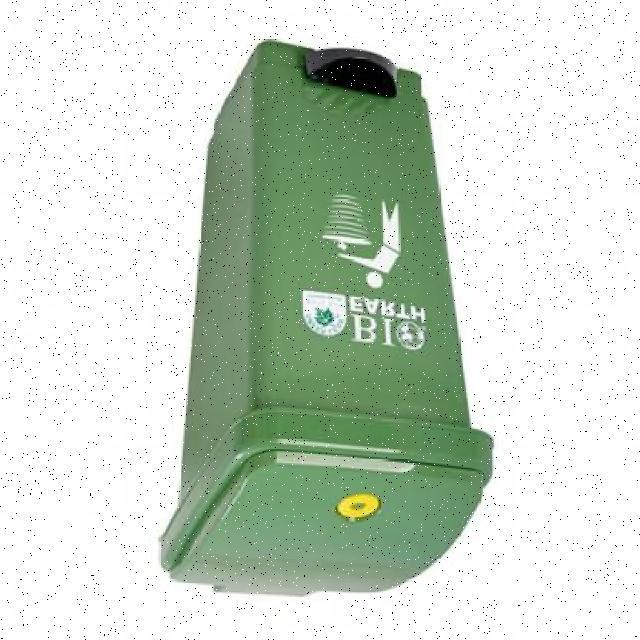garbage container: (153, 23, 512, 611)
